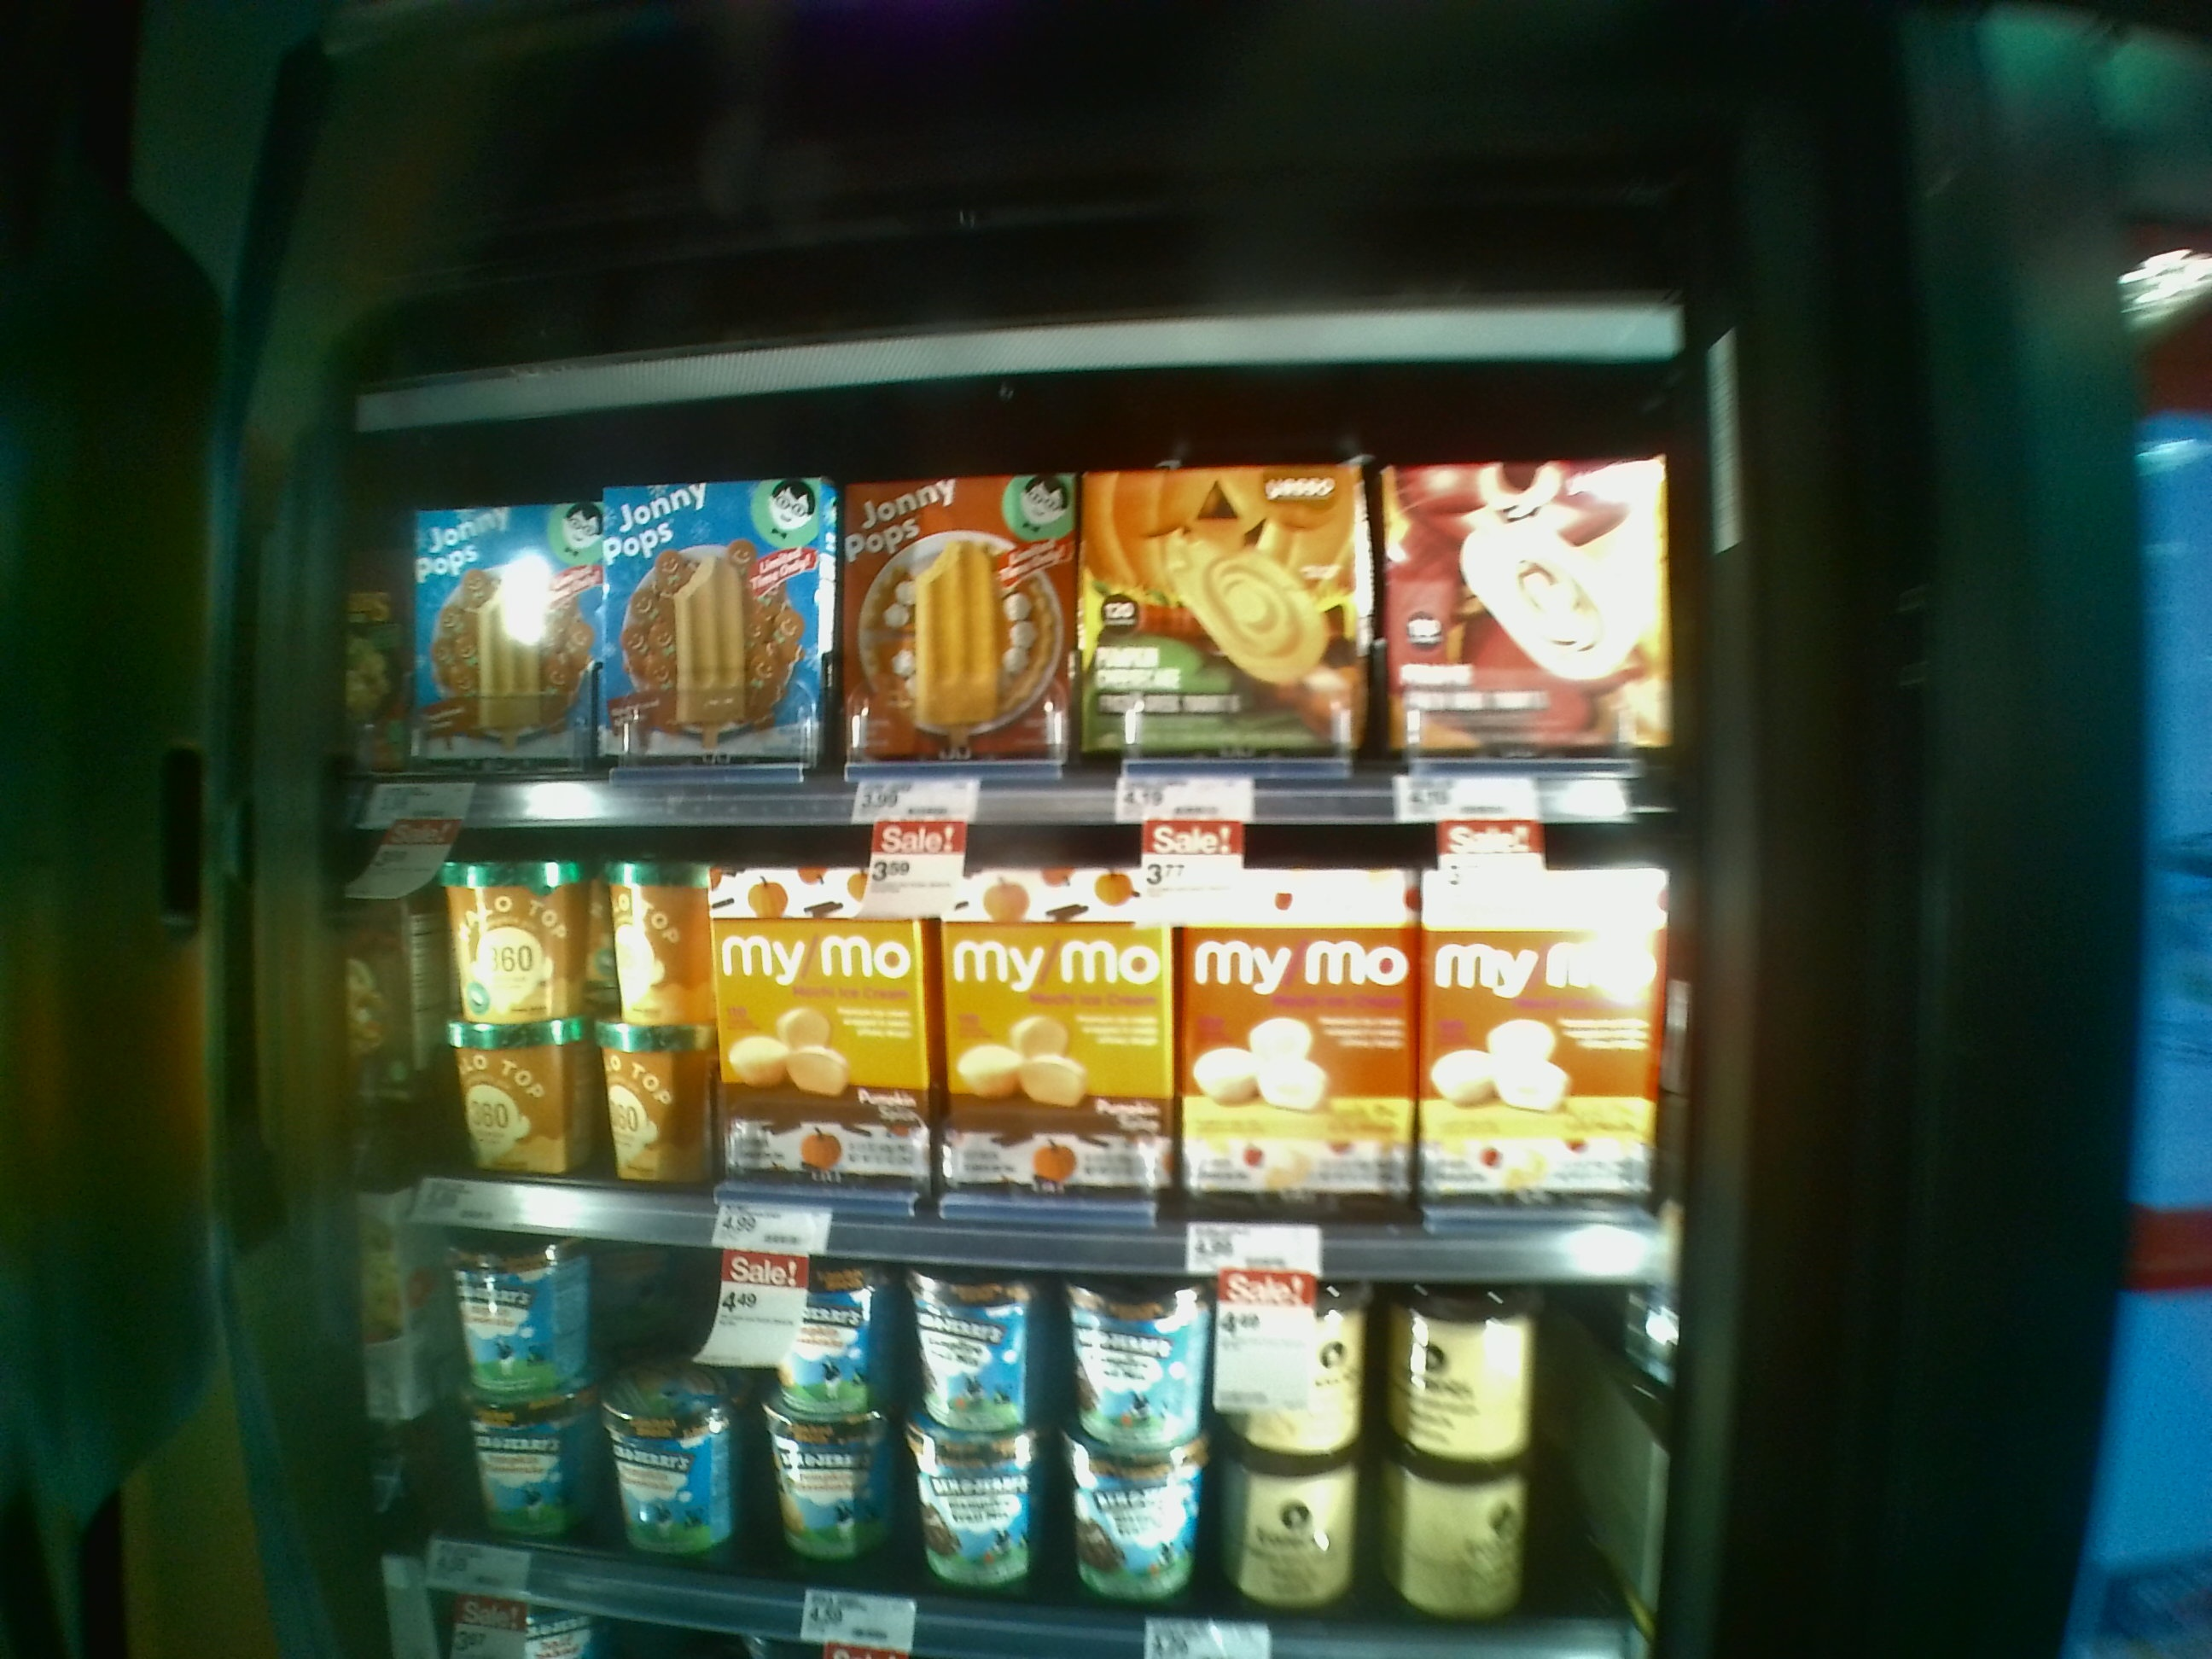shelf: (381, 807, 1669, 1295), (380, 429, 1662, 812)
